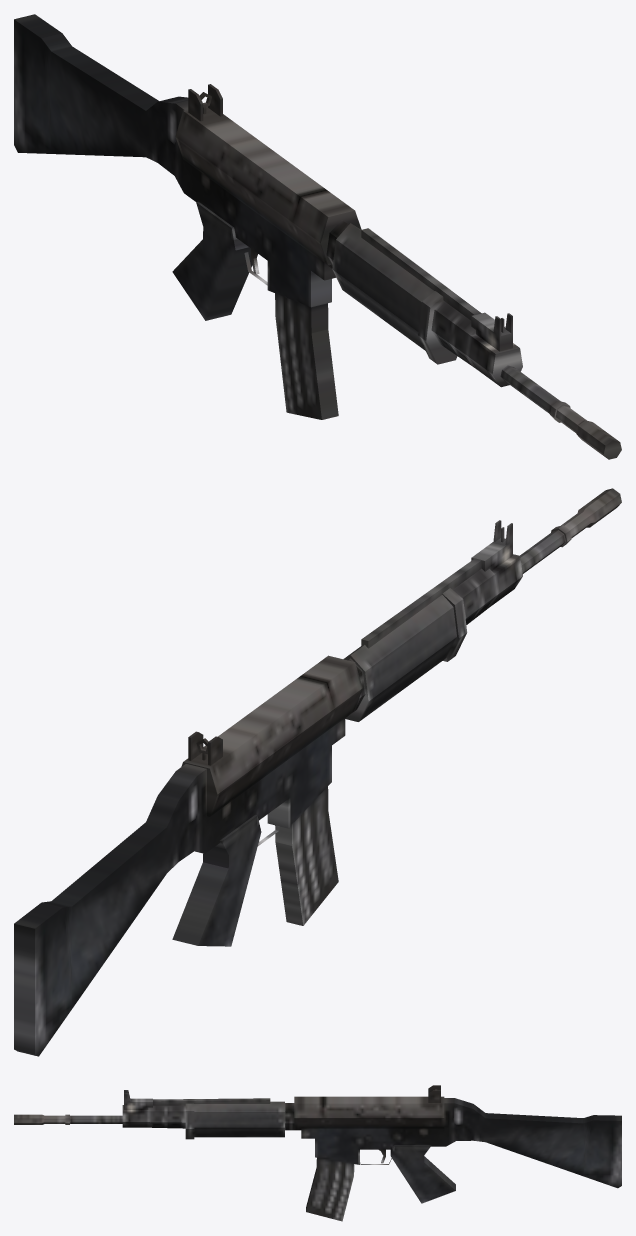
File: assault_rifle.glb
3 views of the same model, one above another, from view 1: azimuth 30°, elevation 25°; view 2: azimuth 150°, elevation 25°; view 3: azimuth 270°, elevation 25° (orthographic). The views are drawn at different scales.
Visible parts, largest first — view 1: Assault_Rifle; view 2: Assault_Rifle; view 3: Assault_Rifle.
Boxes of the visible parts, x1,y1,x2,y2 form: Assault_Rifle: (14,14,621,459); Assault_Rifle: (14,488,621,1056); Assault_Rifle: (14,1085,621,1221).
Size of the model in its own units: 0.0411 by 0.2374 by 0.9967.
Materials: 1 (1 with a texture image).
